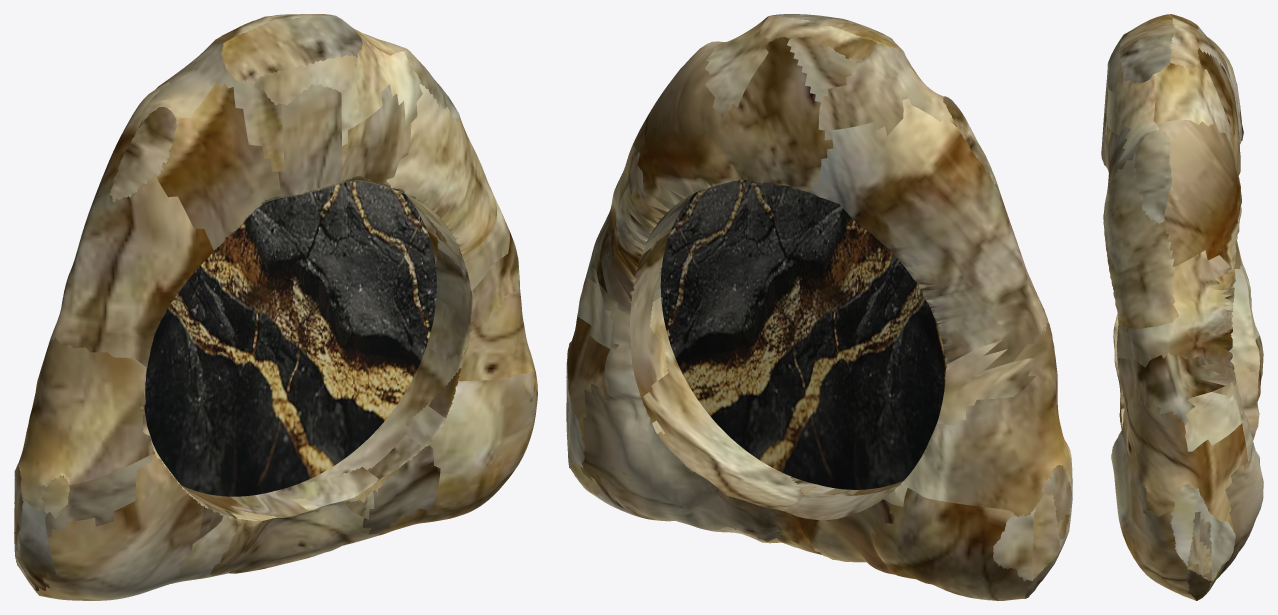
Rendered from portal_tan.glb.
The picture shows the model from 3 angles, left to right: view 1: azimuth 30°, elevation 25°; view 2: azimuth 150°, elevation 25°; view 3: azimuth 270°, elevation 25°; orthographic projection. The views are drawn at different scales.
Visible parts, largest first — view 1: Portal, Flat Plane; view 2: Portal, Flat Plane; view 3: Portal.
Boxes of the visible parts, x1,y1,x2,y2 form: Portal: (14, 14, 537, 600); Flat Plane: (144, 181, 436, 496); Portal: (566, 14, 1072, 600); Flat Plane: (660, 179, 946, 489); Portal: (1101, 14, 1263, 600).
Bounding box in the file's own units: 13.66 × 13.79 × 4.18.
Materials: 2 (2 with a texture image).
